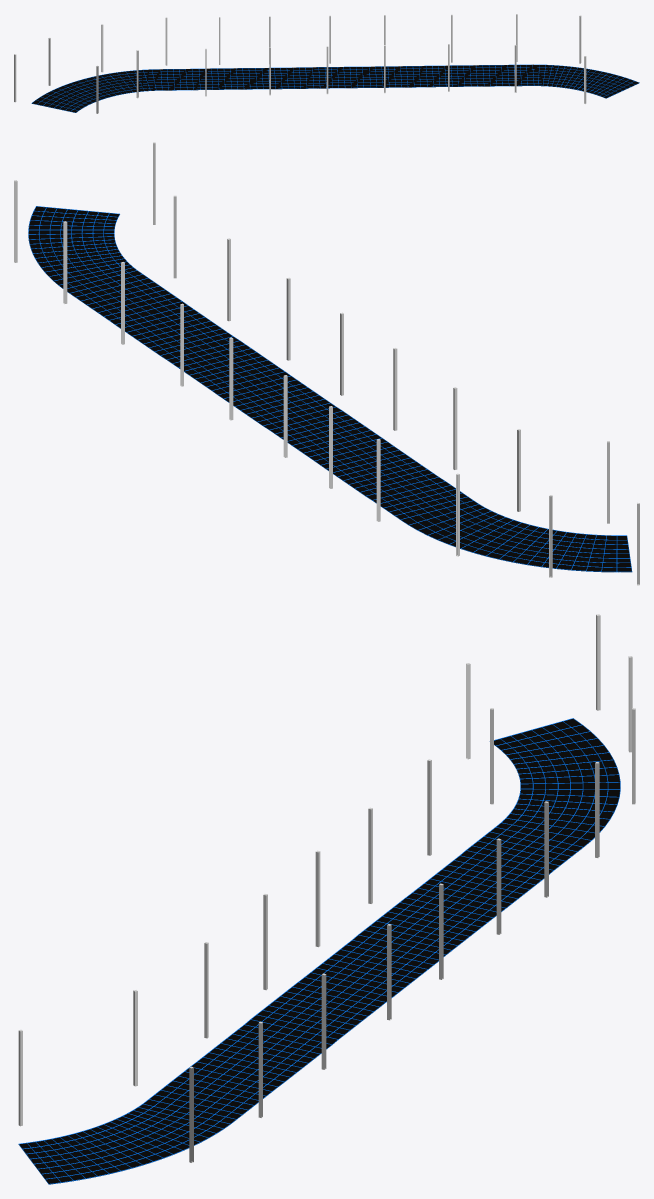
The model's file is tunnelEffects.glb.
The picture shows the model from 3 angles, top to bottom: view 1: azimuth 30°, elevation 25°; view 2: azimuth 150°, elevation 25°; view 3: azimuth 270°, elevation 25°; orthographic projection. The views are drawn at different scales.
Parts seen in each view (by area): view 1: tunnelPlane, tunnelGrid; view 2: tunnelPlane, tunnelGrid; view 3: tunnelPlane, tunnelGrid.
Part boxes in pixels (x1,y1,x2,y2): tunnelPlane: (32,64,638,112); tunnelGrid: (31,64,639,112); tunnelPlane: (28,206,631,571); tunnelGrid: (28,206,632,572); tunnelPlane: (19,719,619,1183); tunnelGrid: (18,718,620,1184).
Bounding box in the file's own units: 1099 × 102 × 602.
